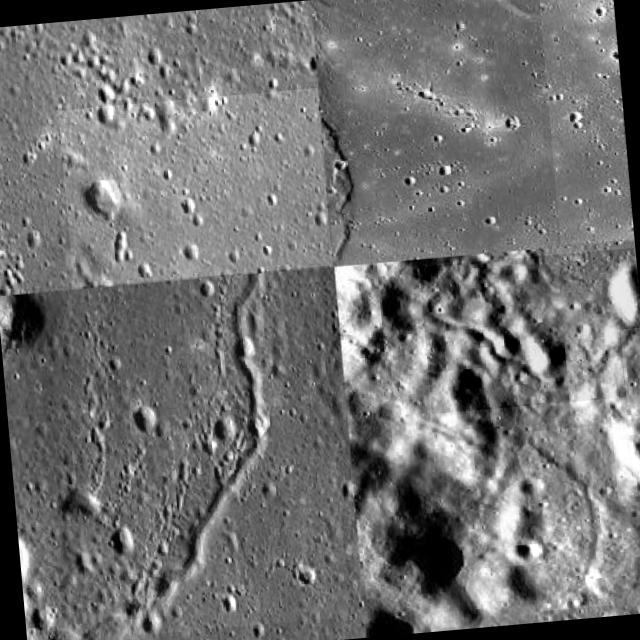rille: (112, 268, 350, 634), (58, 88, 332, 288), (418, 247, 640, 413), (537, 0, 633, 244), (521, 425, 615, 611), (620, 327, 640, 496)
